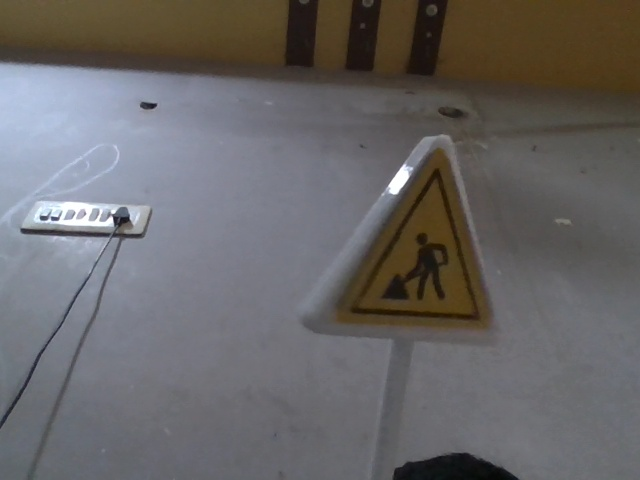workinprogress: (271, 138, 517, 350)
